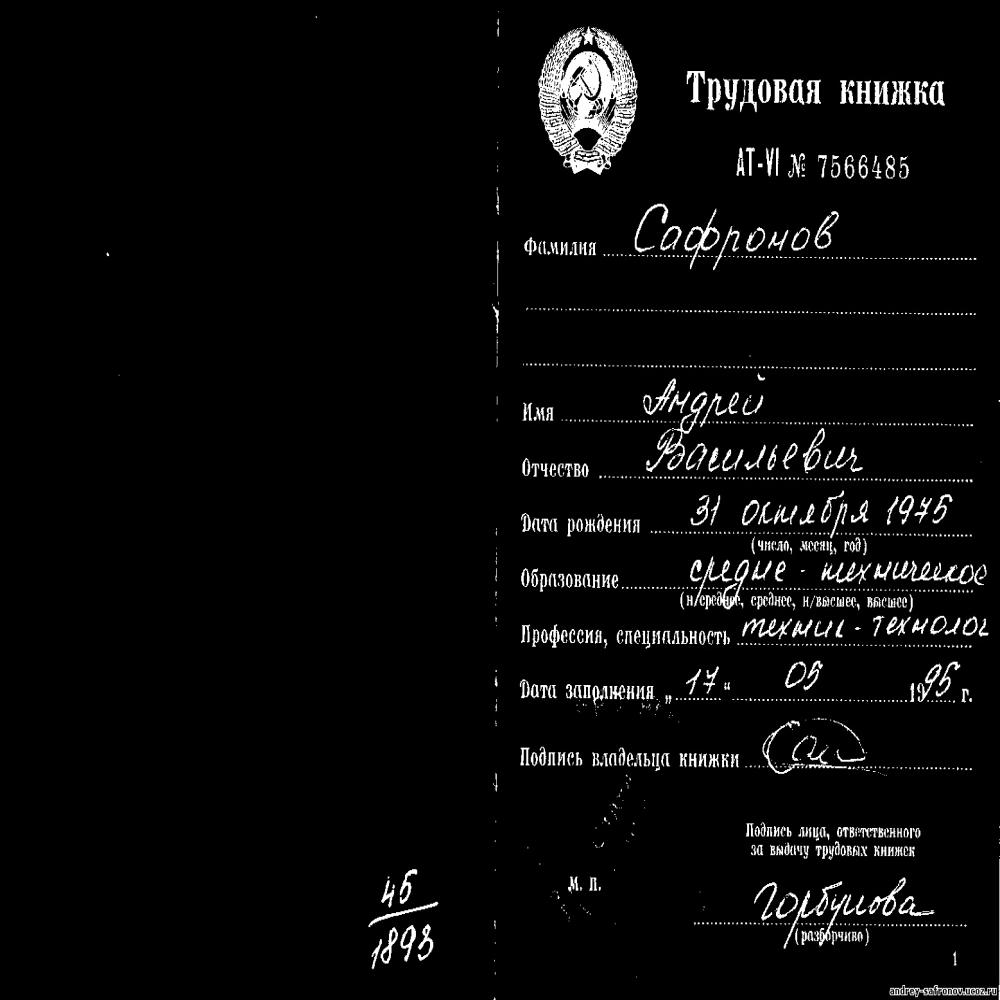rus: (625, 187, 842, 271), (678, 57, 952, 122), (636, 423, 869, 485), (748, 873, 931, 929), (630, 360, 774, 430), (816, 552, 992, 595), (812, 139, 918, 189), (740, 492, 876, 530), (519, 560, 623, 604), (519, 228, 603, 270), (679, 556, 789, 588), (615, 620, 733, 649), (736, 136, 808, 183), (874, 613, 991, 640), (740, 613, 848, 641), (887, 489, 956, 529), (567, 506, 642, 540), (517, 620, 604, 649), (589, 744, 672, 772), (675, 744, 747, 776), (564, 680, 656, 704), (516, 740, 585, 772), (677, 660, 727, 704), (515, 457, 597, 483), (927, 657, 962, 716), (683, 488, 725, 536), (778, 654, 827, 694), (519, 382, 561, 428), (836, 818, 920, 841), (518, 507, 558, 542), (518, 676, 561, 708), (800, 928, 864, 946), (744, 814, 793, 837), (871, 843, 921, 862), (813, 843, 868, 859), (748, 592, 792, 610), (803, 593, 855, 608), (769, 842, 810, 861), (866, 593, 908, 610), (899, 678, 924, 702), (797, 820, 827, 840), (756, 536, 790, 553), (800, 537, 833, 553), (844, 536, 863, 554), (750, 844, 765, 859)
